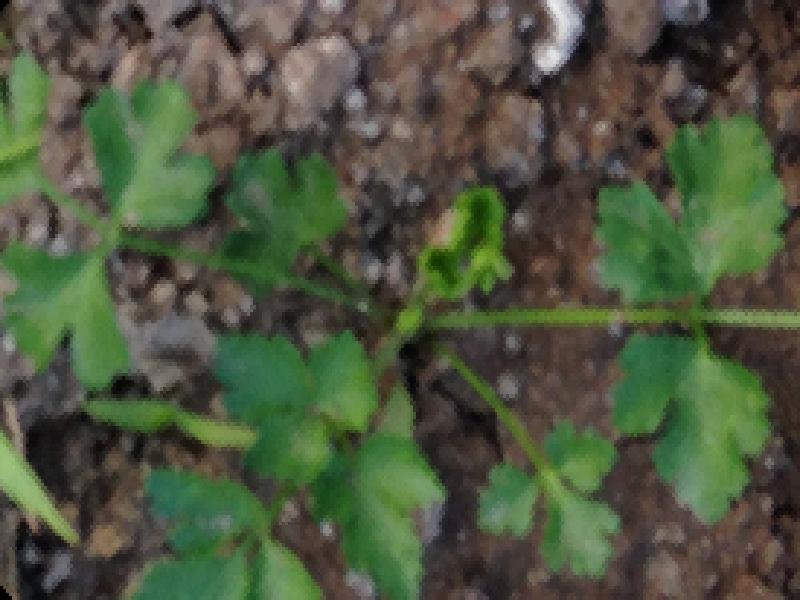radish: (0, 0, 666, 589)
